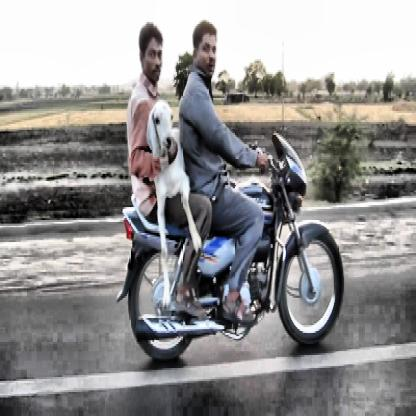not_wear: (192, 21, 218, 81), (138, 23, 160, 81)
